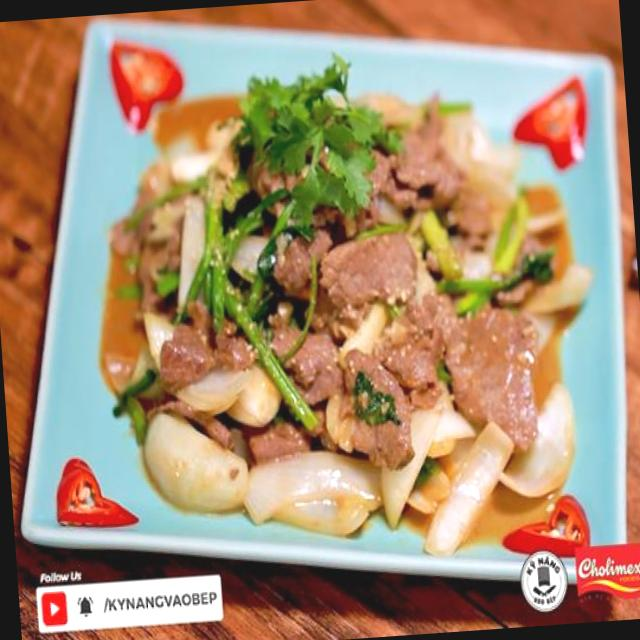bo xao: (116, 55, 562, 551)
